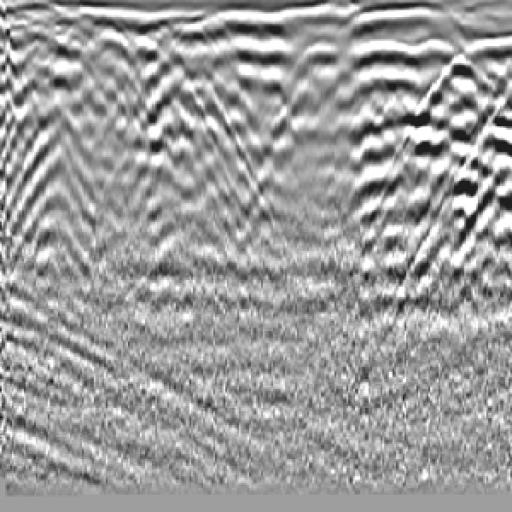non-metallic: (365, 35, 512, 286)
